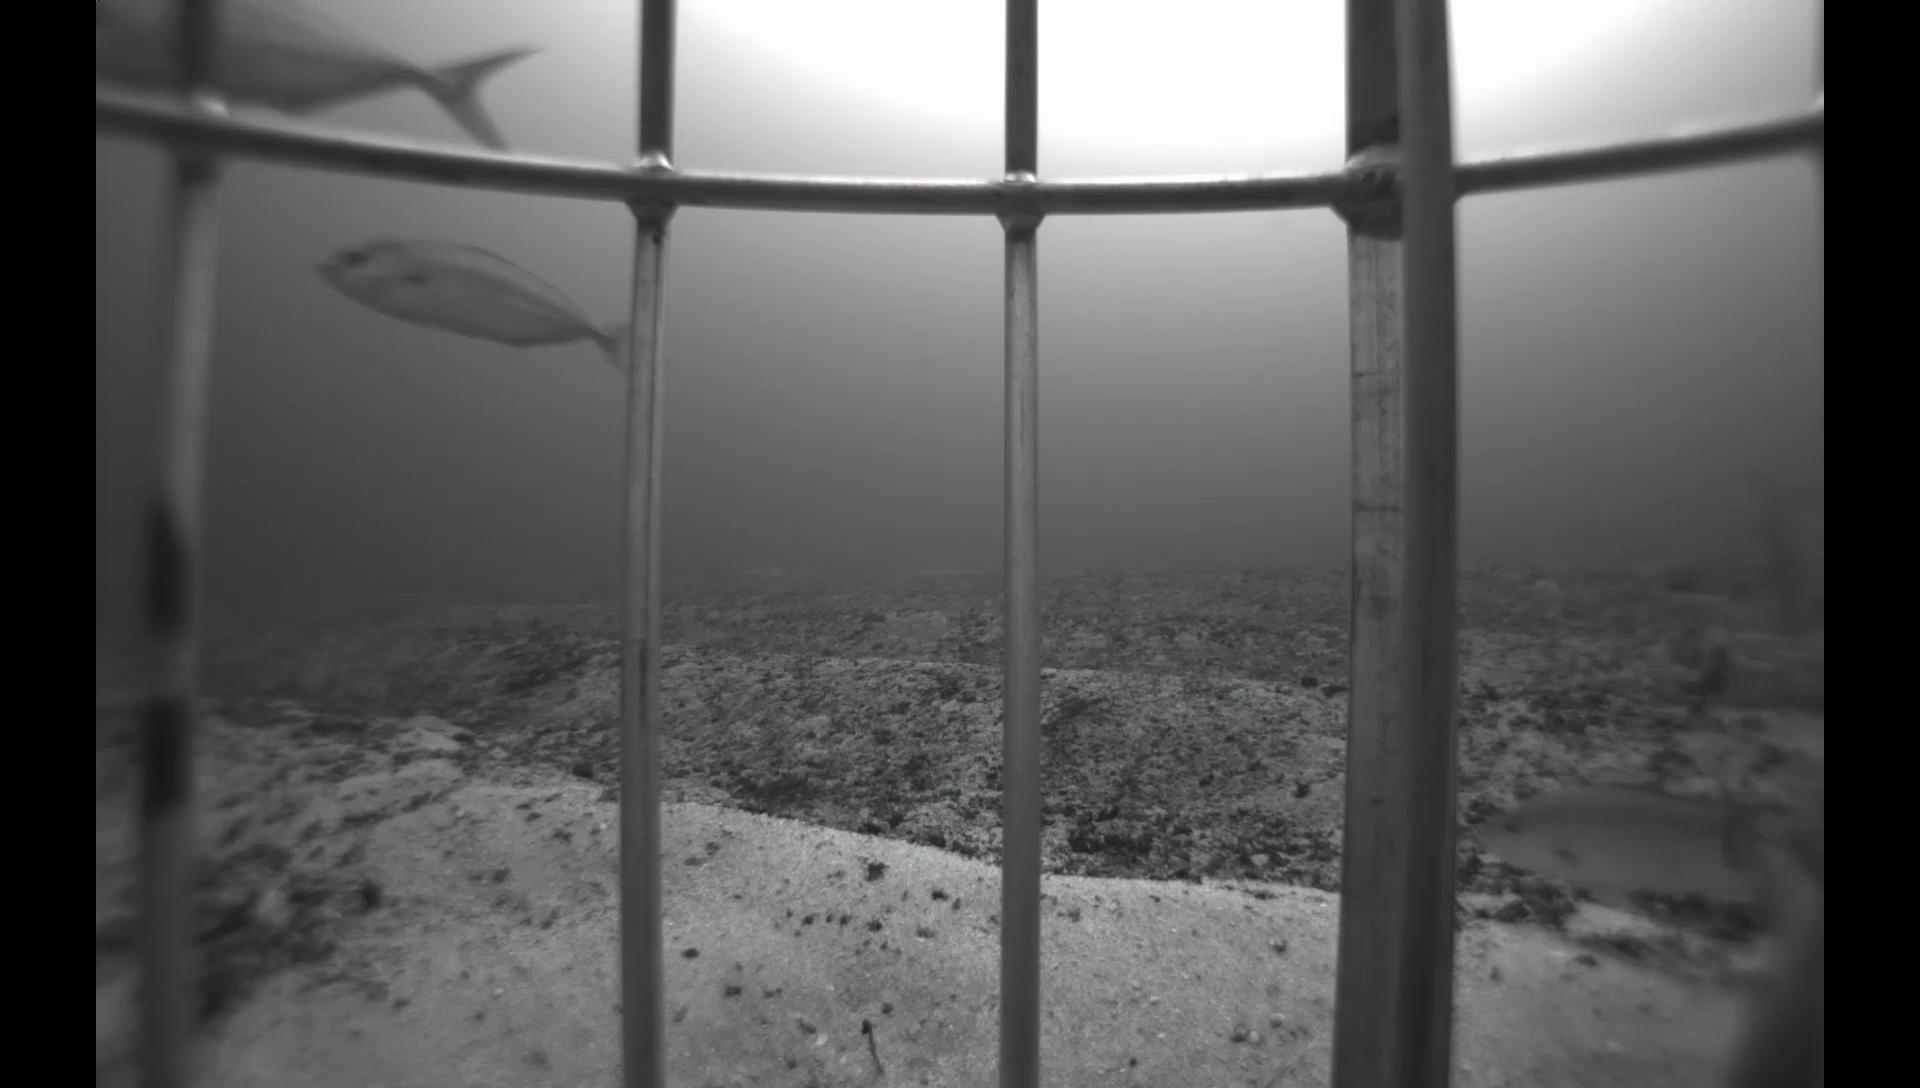RHOMBOPLITESAURORUBENS-170152001: (1456, 777, 1825, 926), (1677, 770, 1826, 1088), (1713, 444, 1822, 646)
SERIOLAFASCIATA-170113103: (94, 3, 558, 165), (305, 227, 626, 385)
